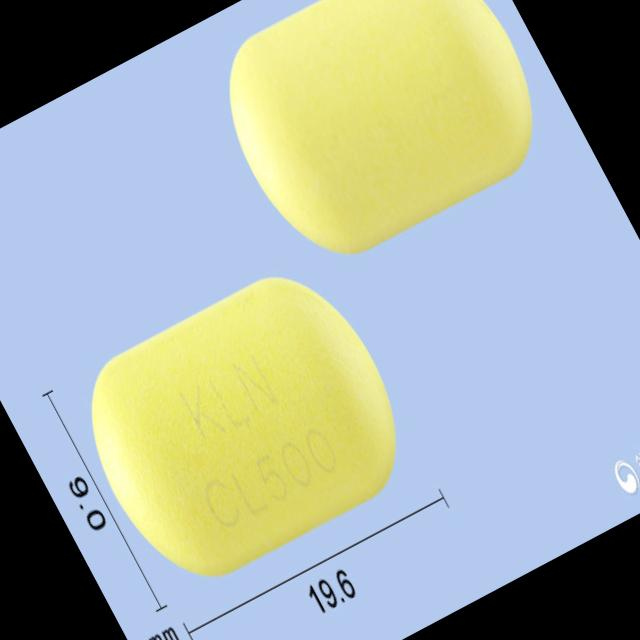New Clato Tab-500mg: (56, 248, 430, 604)
